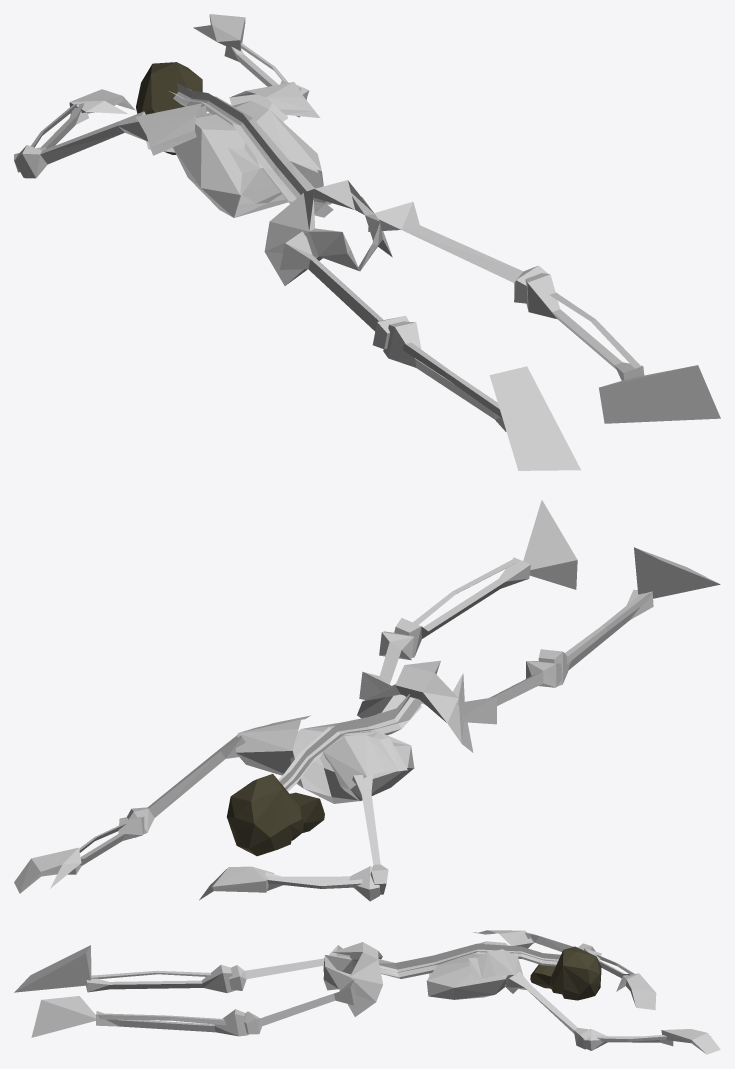
Rendered from ORC_SKELETON_V3.OBJ.
3 renders of one model, top to bottom at view 1: azimuth 30°, elevation 25°; view 2: azimuth 150°, elevation 25°; view 3: azimuth 270°, elevation 25°, orthographic. The views are drawn at different scales.
Visible parts, largest first — view 1: ORC_SKELETON_V3; view 2: ORC_SKELETON_V3; view 3: ORC_SKELETON_V3.
Boxes of the visible parts, bbox=[...] form: ORC_SKELETON_V3: bbox=[14, 14, 720, 470]; ORC_SKELETON_V3: bbox=[14, 499, 720, 901]; ORC_SKELETON_V3: bbox=[14, 930, 720, 1054].
Size of the model in its own units: 0.7872 by 0.2381 by 2.36.
